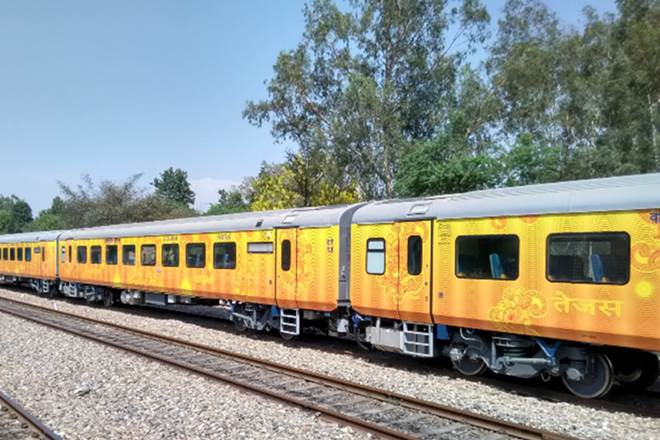train: (2, 166, 657, 403)
